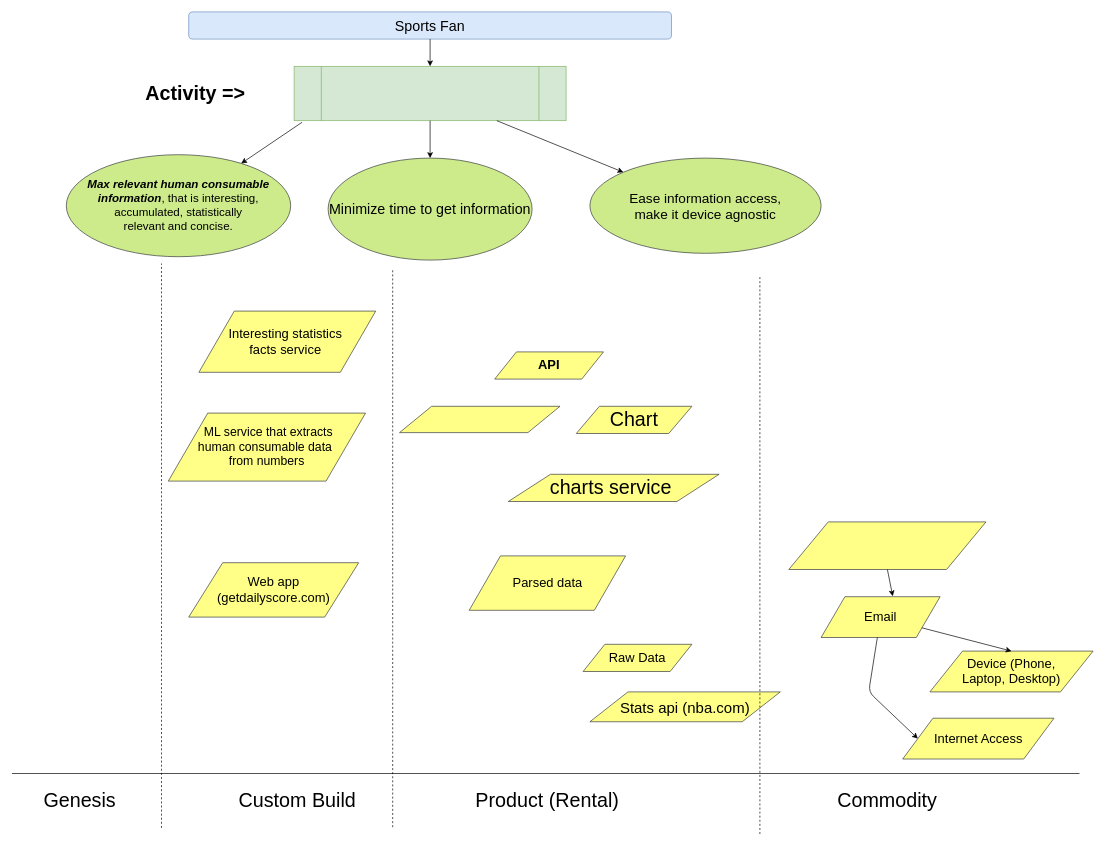
Some shapes in this 1105 by 847 pixel diagram are drawn without their labels. Here are the shapes that lost their labels. From the top down, the centre of each, then its label:
point (429, 93): Track past games scores and stats
point (479, 419): Sentence
point (887, 545): Data Distribution
